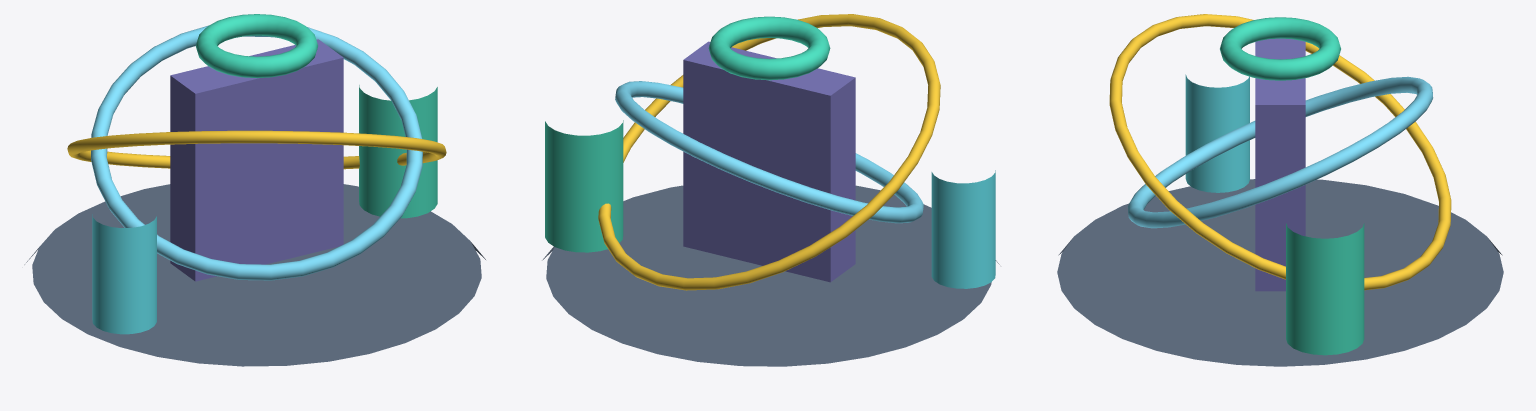
File: it-security.glb
3 renders of one model, left to right at view 1: azimuth 30°, elevation 25°; view 2: azimuth 150°, elevation 25°; view 3: azimuth 270°, elevation 25°, orthographic.
Visible parts, largest first — view 1: Vault_Pedestal, Shield_Body, Firewall_Ring_1, Key_Token_Left, Firewall_Ring_2, SQL_Guard_Right, Lock_Shackle; view 2: Vault_Pedestal, Shield_Body, Firewall_Ring_2, SQL_Guard_Right, Firewall_Ring_1, Key_Token_Left, Lock_Shackle; view 3: Vault_Pedestal, Firewall_Ring_1, Shield_Body, Firewall_Ring_2, SQL_Guard_Right, Key_Token_Left, Lock_Shackle.
Boxes of the visible parts, x1=… form: Vault_Pedestal: x1=24, y1=184, x2=485, y2=366; Shield_Body: x1=170, y1=39, x2=343, y2=281; Firewall_Ring_1: x1=91, y1=25, x2=422, y2=280; Key_Token_Left: x1=92, y1=214, x2=156, y2=334; Firewall_Ring_2: x1=67, y1=130, x2=446, y2=169; SQL_Guard_Right: x1=359, y1=85, x2=437, y2=218; Lock_Shackle: x1=196, y1=14, x2=317, y2=78; Vault_Pedestal: x1=542, y1=185, x2=999, y2=366; Shield_Body: x1=683, y1=41, x2=855, y2=282; Firewall_Ring_2: x1=598, y1=14, x2=940, y2=290; SQL_Guard_Right: x1=545, y1=120, x2=623, y2=252; Firewall_Ring_1: x1=615, y1=81, x2=923, y2=223; Key_Token_Left: x1=931, y1=170, x2=995, y2=288; Lock_Shackle: x1=708, y1=16, x2=830, y2=80; Vault_Pedestal: x1=1057, y1=179, x2=1503, y2=366; Firewall_Ring_1: x1=1127, y1=76, x2=1433, y2=228; Shield_Body: x1=1255, y1=38, x2=1305, y2=291; Firewall_Ring_2: x1=1109, y1=14, x2=1451, y2=290; SQL_Guard_Right: x1=1286, y1=223, x2=1364, y2=355; Key_Token_Left: x1=1185, y1=74, x2=1249, y2=192; Lock_Shackle: x1=1220, y1=17, x2=1340, y2=80.
Size of the model in its own units: 2.7 by 1.58 by 2.7.
